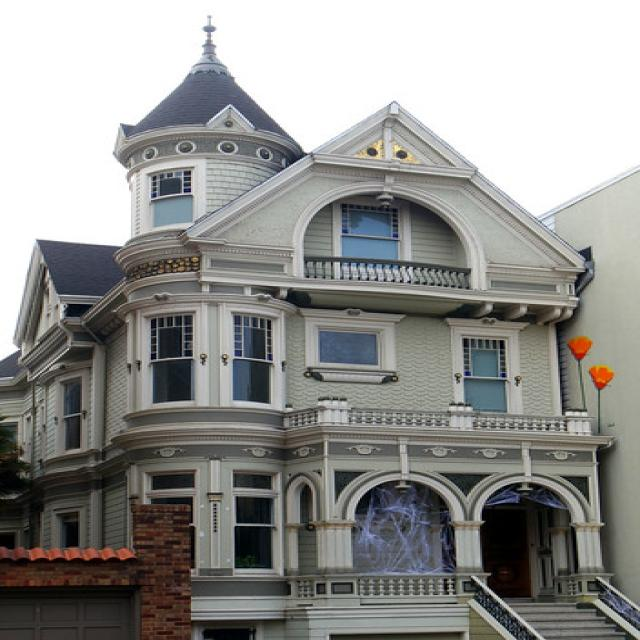building: (0, 53, 618, 636)
